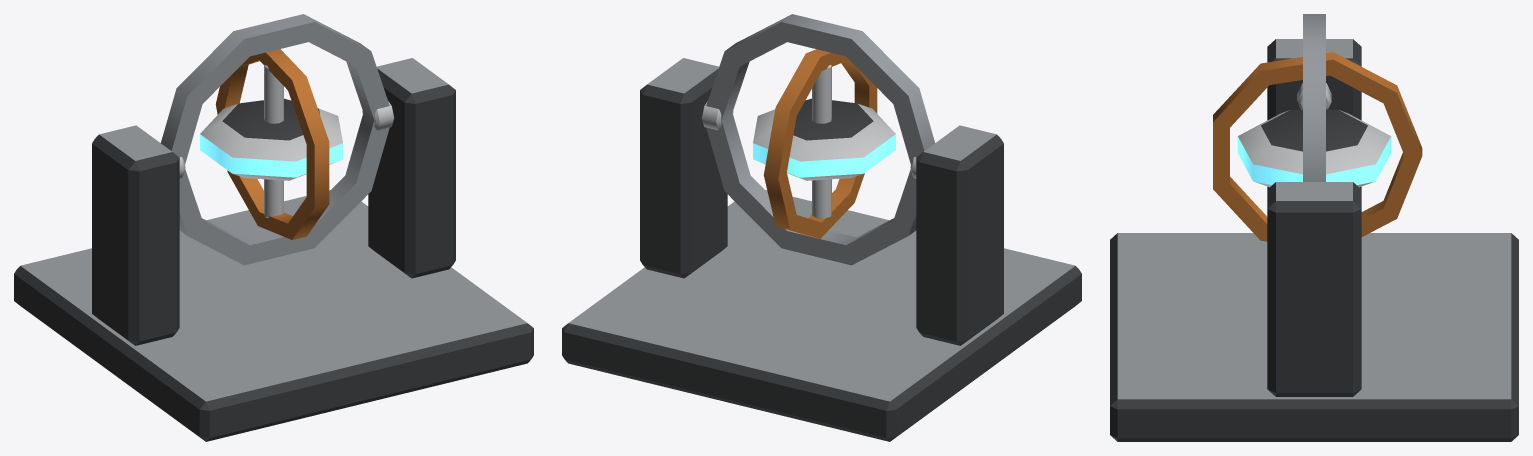
The model's file is R4X_Gyroscope_LOD1.fbx.
3 views of the same model, side by side, from view 1: azimuth 30°, elevation 25°; view 2: azimuth 150°, elevation 25°; view 3: azimuth 270°, elevation 25° (orthographic). The views are drawn at different scales.
Visible parts, largest first — view 1: R4X_Gyroscope_LOD1; view 2: R4X_Gyroscope_LOD1; view 3: R4X_Gyroscope_LOD1.
Part boxes in pixels (bbox=[...]): R4X_Gyroscope_LOD1: bbox=[14, 14, 533, 441]; R4X_Gyroscope_LOD1: bbox=[562, 14, 1081, 441]; R4X_Gyroscope_LOD1: bbox=[1110, 14, 1518, 441].
Size of the model in its own units: 0.52 by 0.4583 by 0.52.
